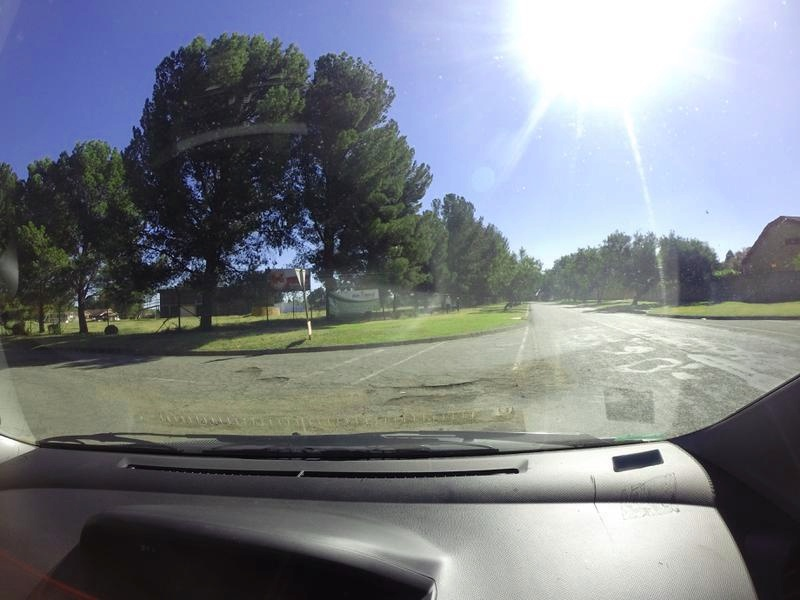pothole: (394, 374, 481, 393), (383, 395, 467, 408), (232, 362, 266, 381), (269, 368, 291, 387), (204, 355, 232, 367)
